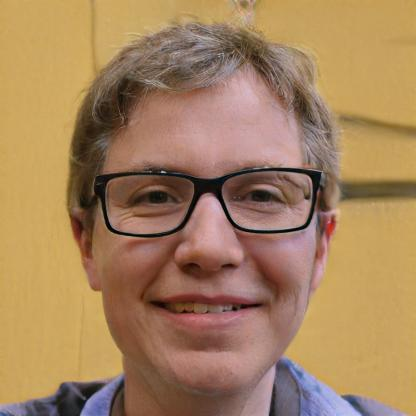glasses: (92, 166, 322, 242)
